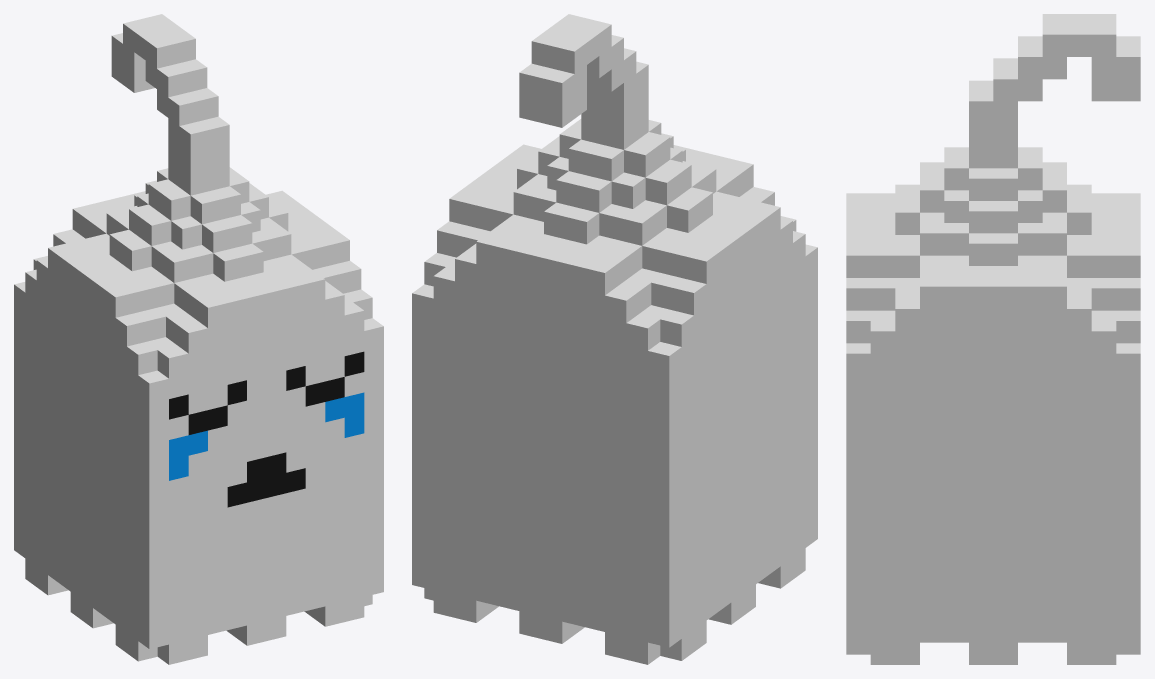
Rendered from sadghost.glb.
3 views of the same model, side by side, from view 1: azimuth 30°, elevation 25°; view 2: azimuth 150°, elevation 25°; view 3: azimuth 270°, elevation 25° (orthographic). The views are drawn at different scales.
Visible parts, largest first — view 1: ghost; view 2: ghost; view 3: ghost.
Boxes of the visible parts, x1,y1,x2,y2 form: ghost: [14, 14, 383, 664]; ghost: [412, 14, 817, 664]; ghost: [846, 14, 1140, 664].
Bounding box in the file's own units: 1.2 × 2.6 × 1.2.
Materials: 1 (1 with a texture image).
